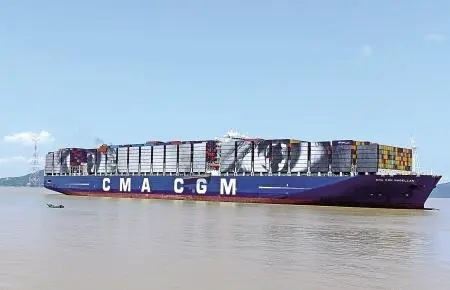Cargoship: (43, 133, 444, 210)
